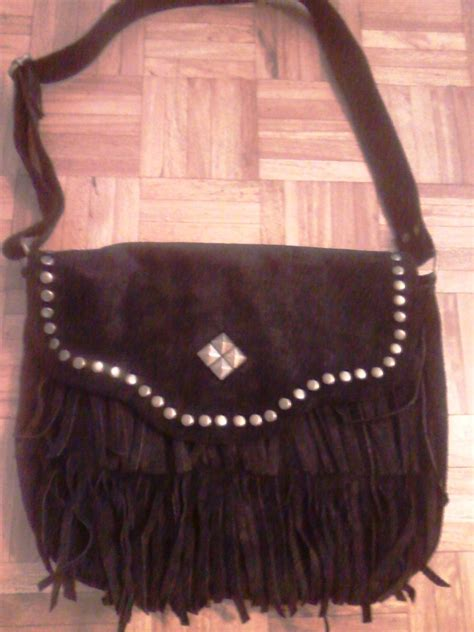gamuza: (18, 241, 449, 603)
